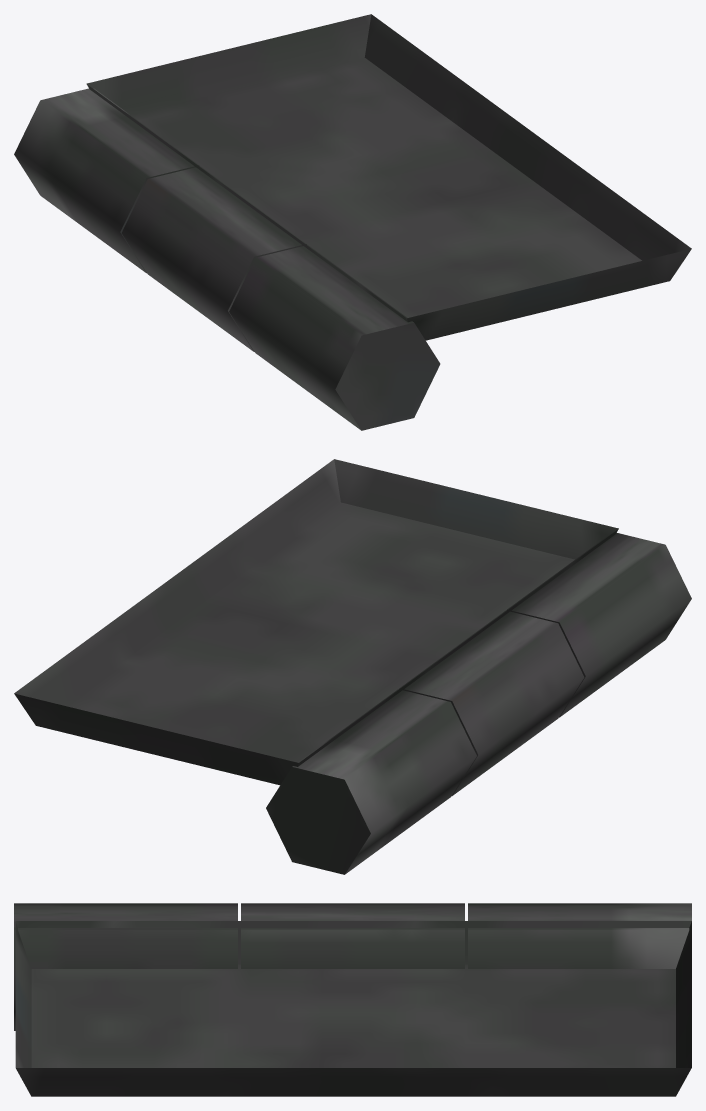
Rendered from dest_rus_door_58_01_hinge_a_d0_LOD0.obj.
The picture shows the model from 3 angles, top to bottom: view 1: azimuth 30°, elevation 25°; view 2: azimuth 150°, elevation 25°; view 3: azimuth 270°, elevation 25°; orthographic projection. The views are drawn at different scales.
Visible parts, largest first — view 1: mtl_p_rus_door_metal_white; view 2: mtl_p_rus_door_metal_white; view 3: mtl_p_rus_door_metal_white.
Boxes of the visible parts, x1,y1,x2,y2 form: mtl_p_rus_door_metal_white: (14, 14, 691, 430); mtl_p_rus_door_metal_white: (14, 459, 691, 874); mtl_p_rus_door_metal_white: (14, 903, 691, 1096).
Size of the model in its own units: 11.06 by 2.98 by 17.22.
